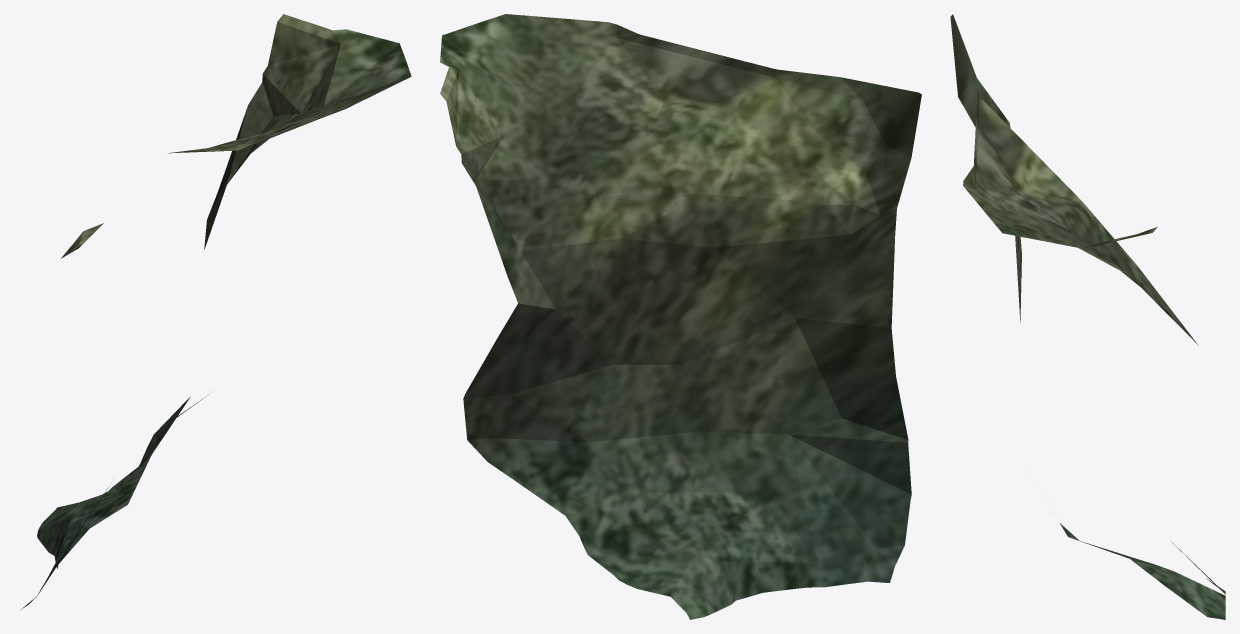
3 views of the same model, side by side, from view 1: azimuth 30°, elevation 25°; view 2: azimuth 150°, elevation 25°; view 3: azimuth 270°, elevation 25° (orthographic). The views are drawn at different scales.
Size of the model in its own units: 2.79 by 2.95 by 1.39.
Materials: 3 (3 with a texture image).
